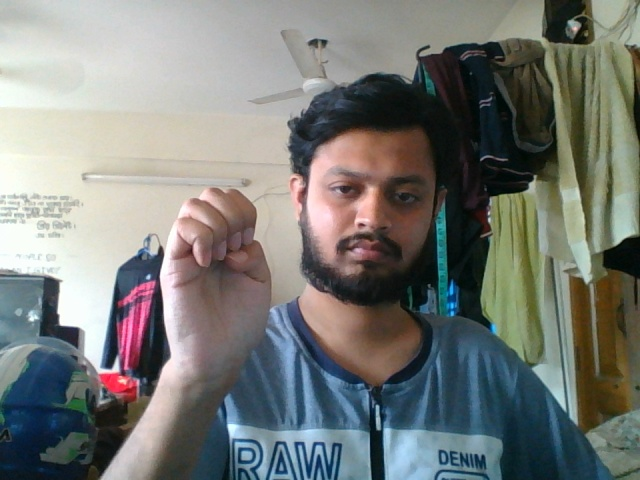sha: (155, 183, 280, 420)
